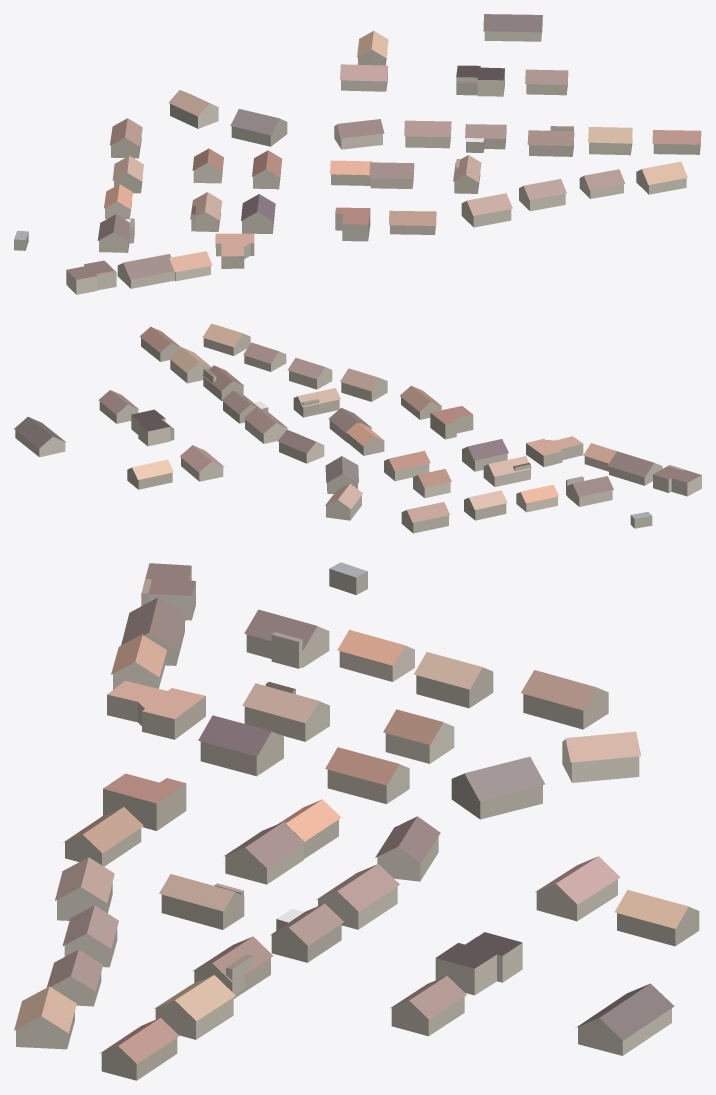
The picture shows the model from 3 angles, top to bottom: view 1: azimuth 30°, elevation 25°; view 2: azimuth 150°, elevation 25°; view 3: azimuth 270°, elevation 25°; orthographic projection. The views are drawn at different scales.
Parts seen in each view (by area): view 1: tuile; view 2: tuile; view 3: tuile.
Boxes of the visible parts, <box> form: tuile: <box>14,14,701,294</box>; tuile: <box>14,323,701,533</box>; tuile: <box>14,562,699,1080</box>.
Size of the model in its own units: 224 by 13.46 by 130.
